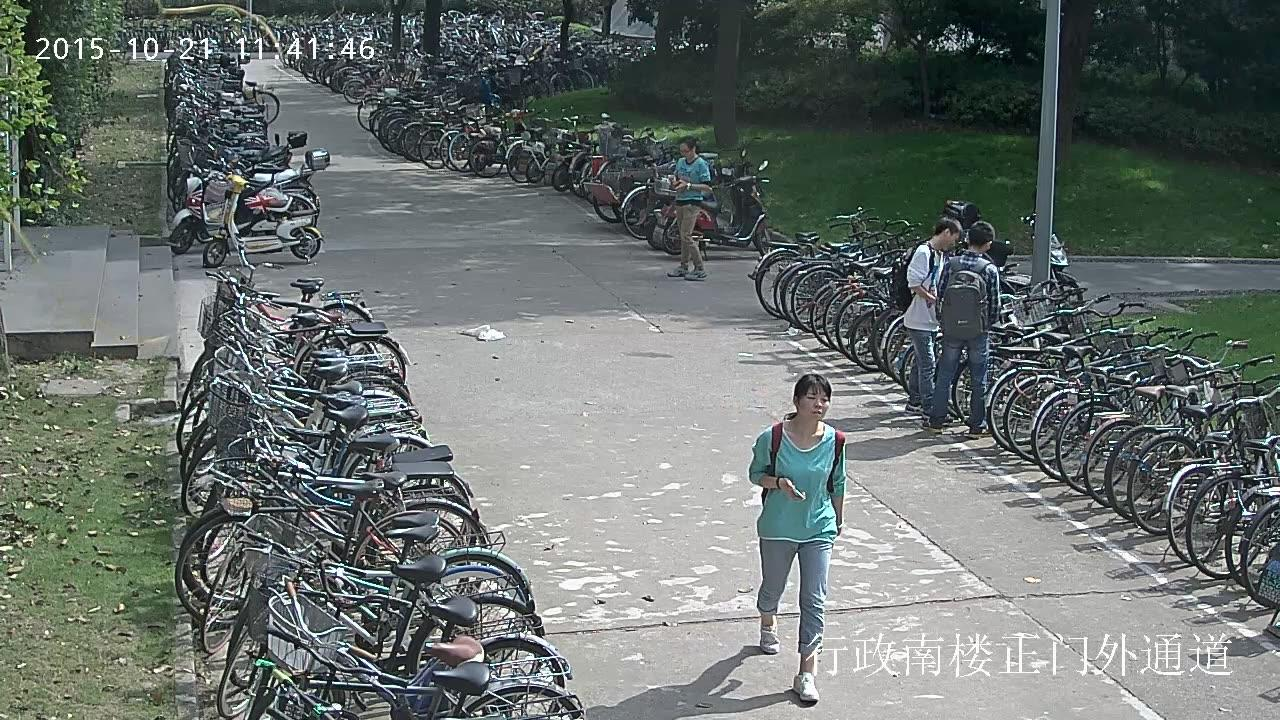person: (747, 372, 846, 706), (925, 220, 1002, 438), (892, 217, 966, 424), (666, 134, 713, 281)
